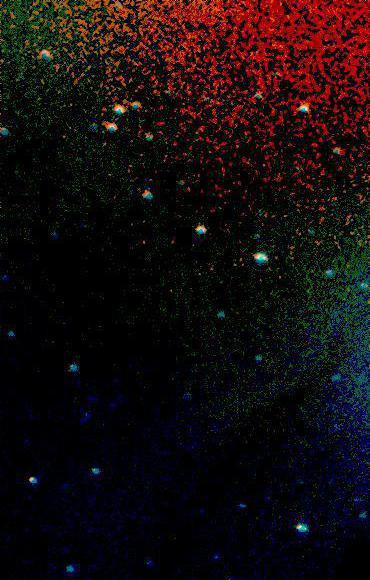star: (265, 554, 295, 580)
